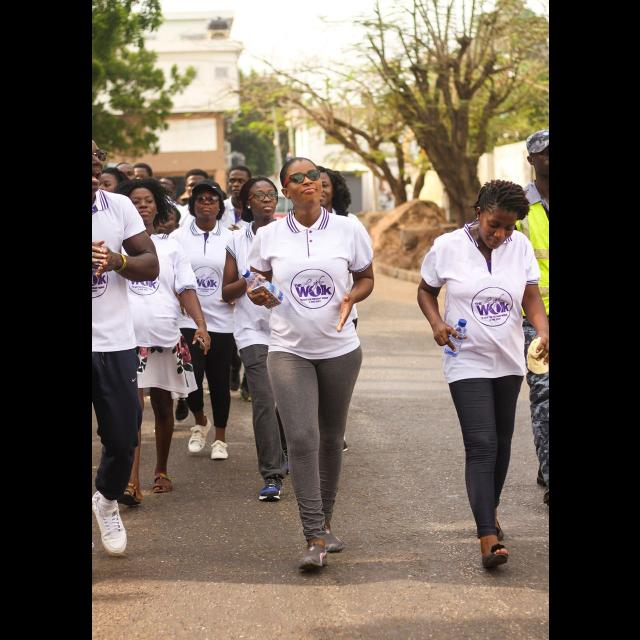head: (474, 182, 522, 250), (279, 156, 325, 210), (241, 177, 279, 220), (124, 186, 160, 227), (306, 169, 338, 207), (191, 179, 221, 219), (92, 136, 108, 196), (228, 166, 252, 198)
person: (238, 152, 382, 576), (91, 175, 212, 511), (92, 135, 166, 569), (218, 172, 314, 506), (161, 177, 251, 469), (288, 162, 362, 460), (200, 163, 276, 405)
